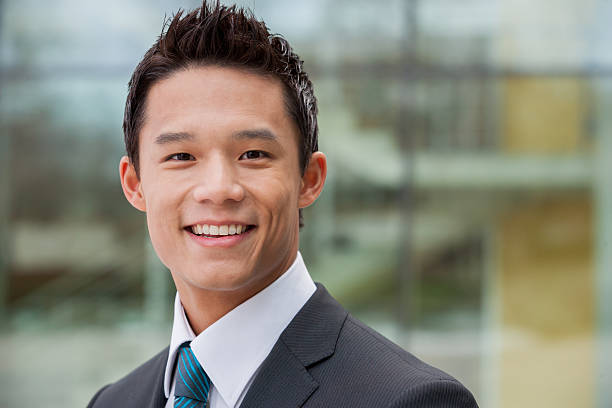bare: (142, 173, 299, 286)
